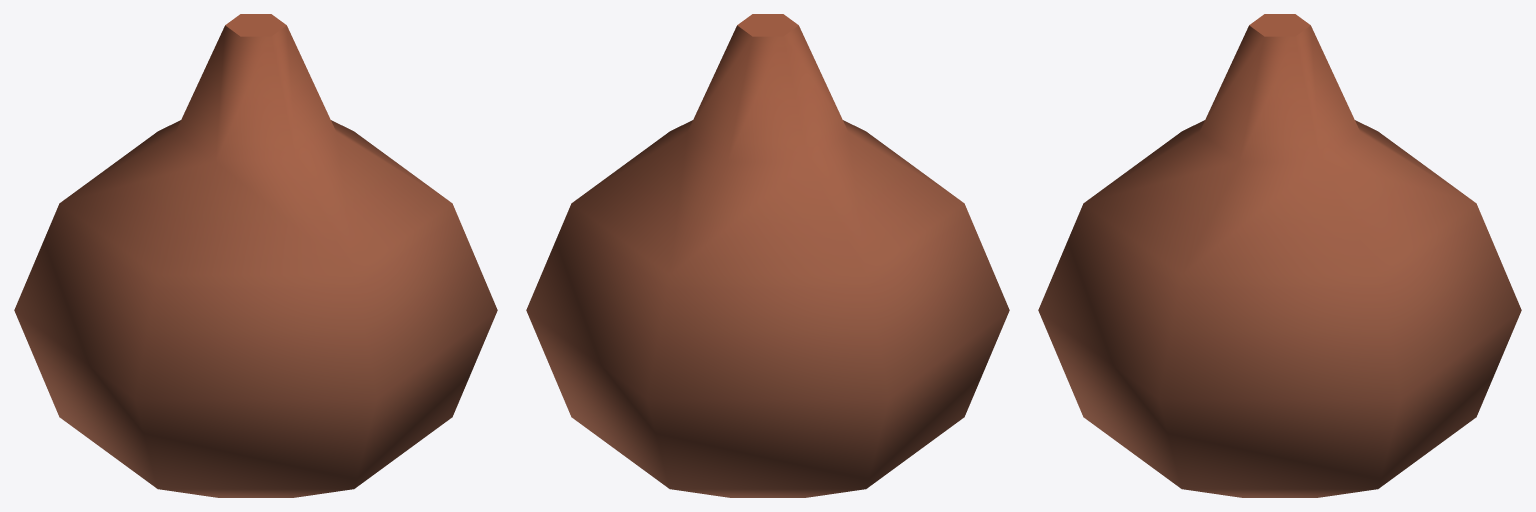
Rendered from onion.glb.
3 renders of one model, left to right at view 1: azimuth 30°, elevation 25°; view 2: azimuth 150°, elevation 25°; view 3: azimuth 270°, elevation 25°, orthographic.
Visible parts, largest first — view 1: onion; view 2: onion; view 3: onion.
Boxes of the visible parts, x1,y1,x2,y2 form: onion: (14, 14, 497, 497); onion: (526, 14, 1009, 497); onion: (1038, 14, 1521, 497).
Bounding box in the file's own units: 0.213 × 0.25 × 0.246.
1 material, 1 textured.
